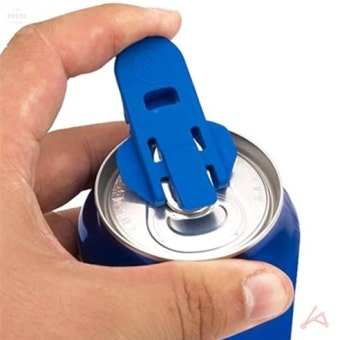paper: (68, 118, 298, 340)
